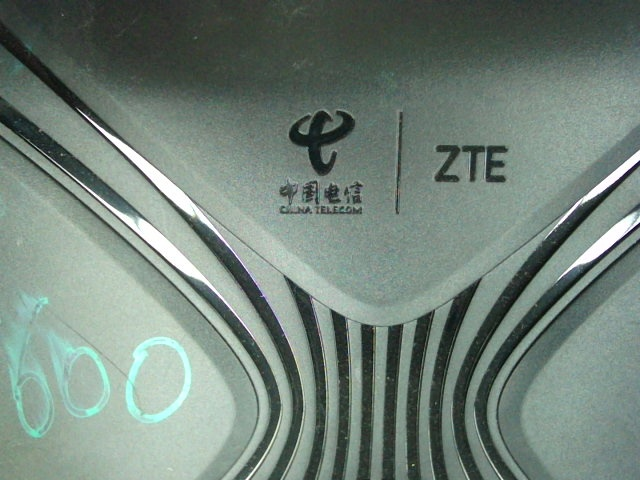AX_ZTEChinaTelecom: (256, 105, 511, 220)
